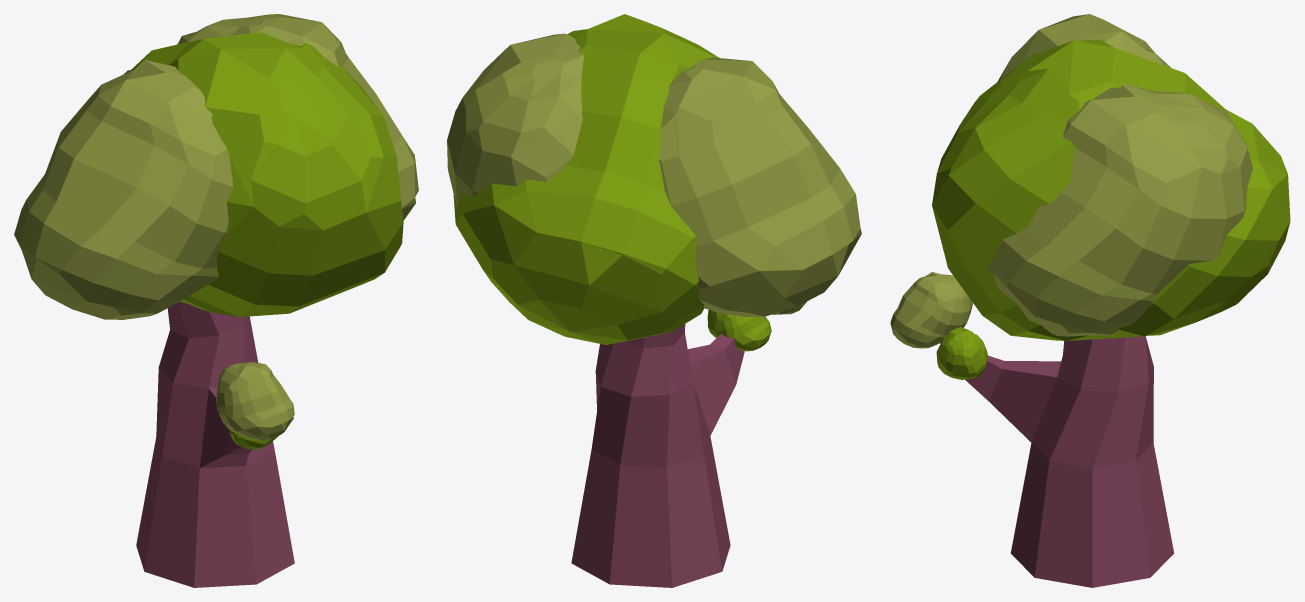
The model's file is Boom1.fbx.
The picture shows the model from 3 angles, left to right: view 1: azimuth 30°, elevation 25°; view 2: azimuth 150°, elevation 25°; view 3: azimuth 270°, elevation 25°; orthographic projection.
Parts seen in each view (by area): view 1: Sphere.001, Sphere, Cylinder, Sphere.002, Sphere.003; view 2: Sphere.001, Sphere, Cylinder, Sphere.002, Sphere.004; view 3: Sphere.002, Sphere.001, Cylinder, Sphere.003, Sphere, Sphere.004.
Boxes of the visible parts, x1,y1,x2,y2 form: Sphere.001: (131,32,403,316); Sphere: (14,60,233,319); Cylinder: (136,301,294,587); Sphere.002: (177,14,418,220); Sphere.003: (216,362,294,440); Sphere.001: (453,14,718,344); Sphere: (659,57,861,316); Cylinder: (571,324,744,587); Sphere.002: (447,33,584,207); Sphere.004: (707,310,771,351); Sphere.002: (987,83,1252,336); Sphere.001: (932,39,1290,340); Cylinder: (940,336,1174,587); Sphere.003: (890,272,972,348); Sphere: (997,14,1170,81); Sphere.004: (936,327,987,379).
Size of the model in its own units: 703 by 923 by 655.
